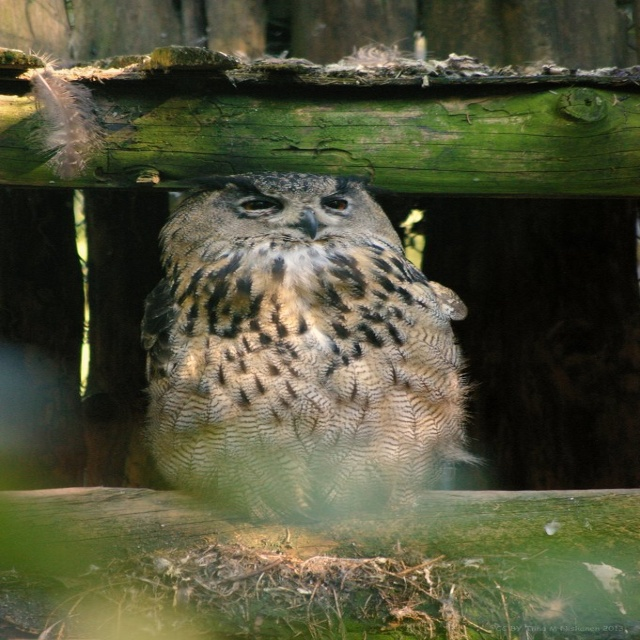Owl: (141, 170, 478, 528)
